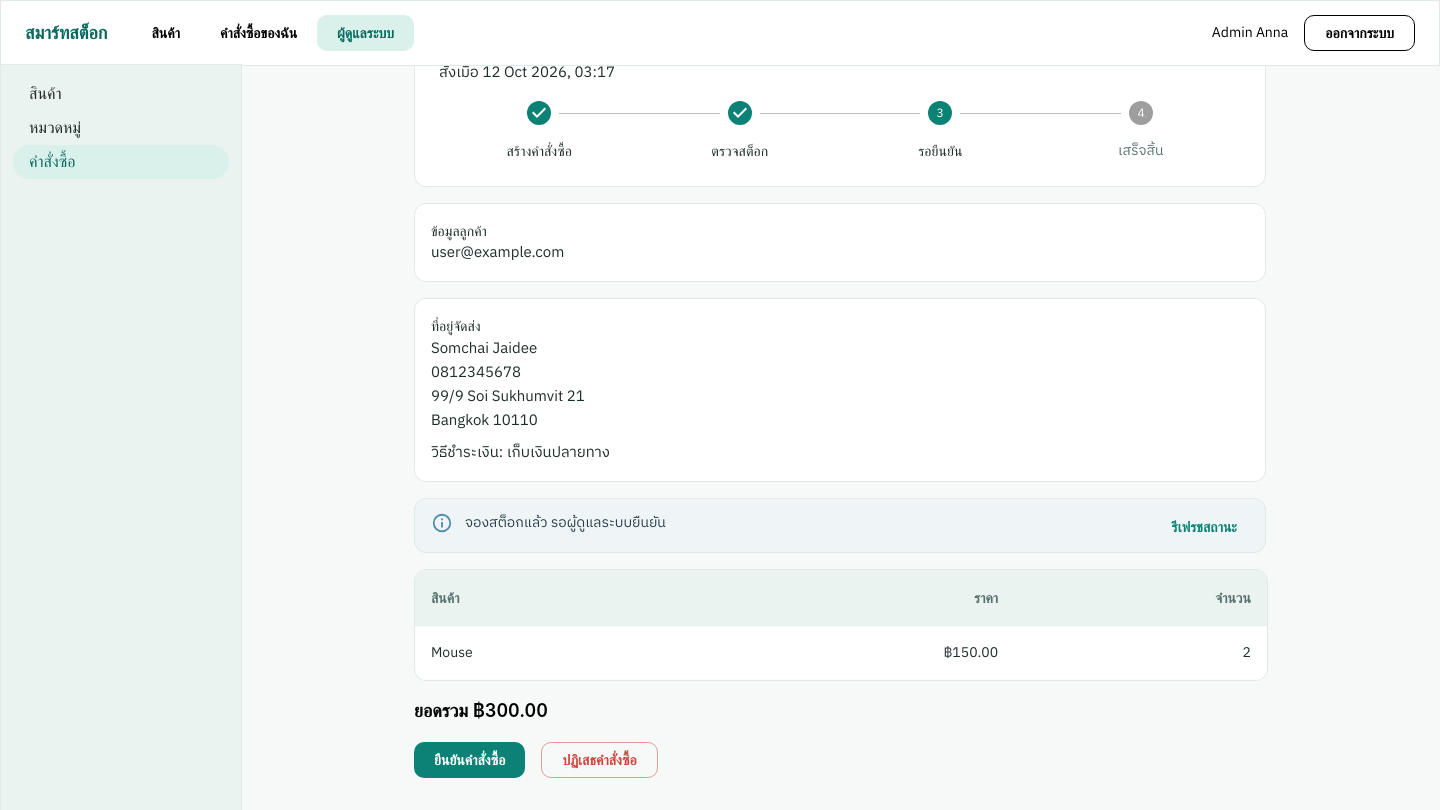
Scenario: confirms a reserved order
(page scrolled)
Click the button "ยืนยันคำสั่งซื้อ".
click(470, 760)  # box [414, 742, 525, 778]
(page scrolled)
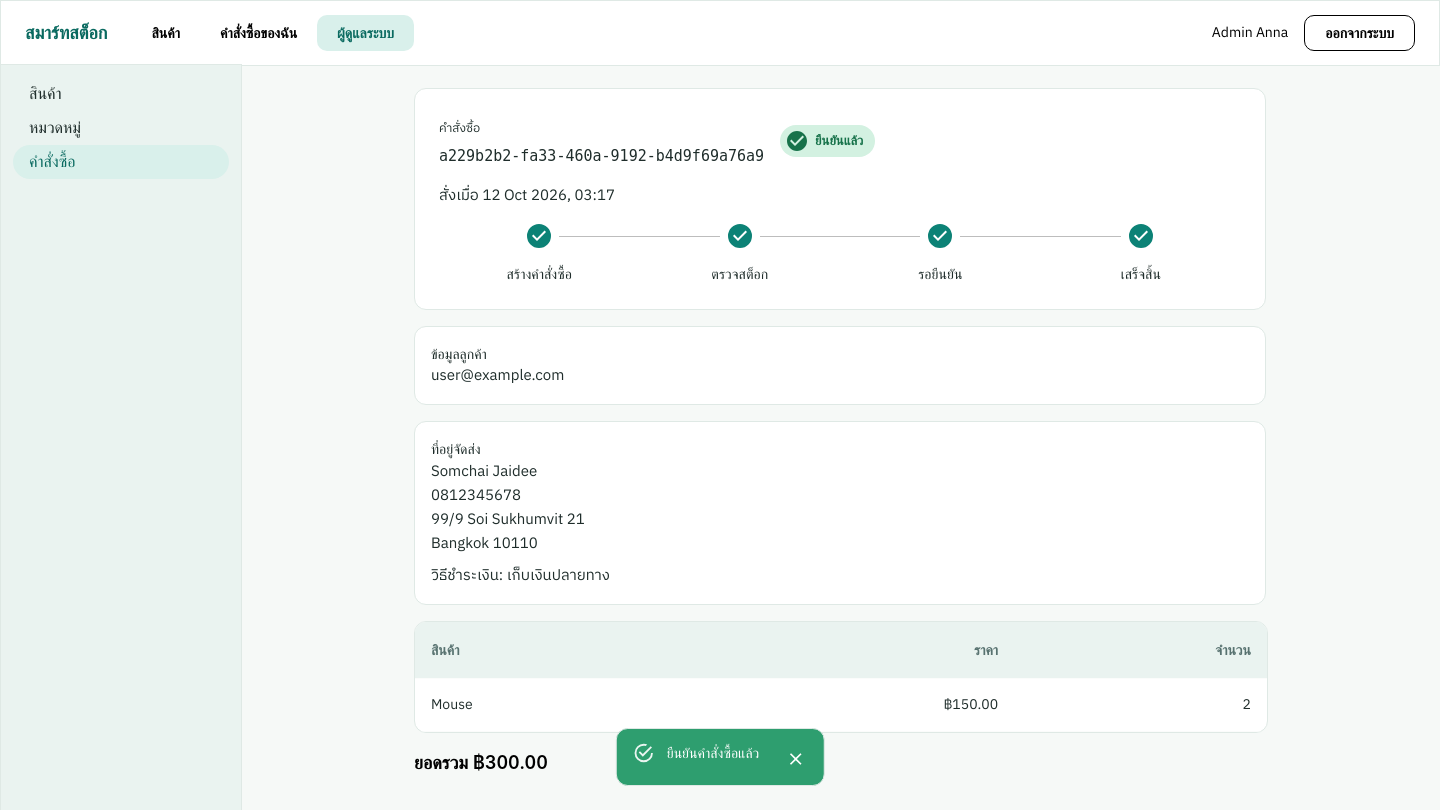
Check: the text "ยืนยันคำสั่งซื้อแล้ว" is shown, box [667, 744, 759, 761]
